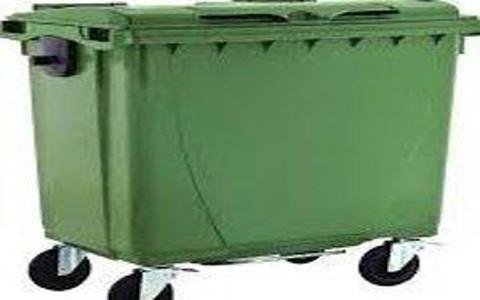Proper garbage: (1, 2, 476, 298)
